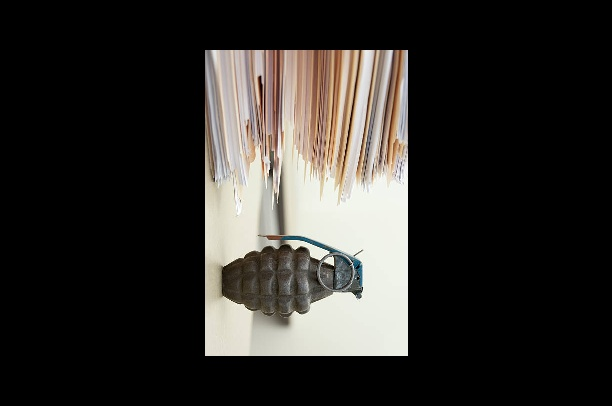e1: (218, 234, 366, 327)
